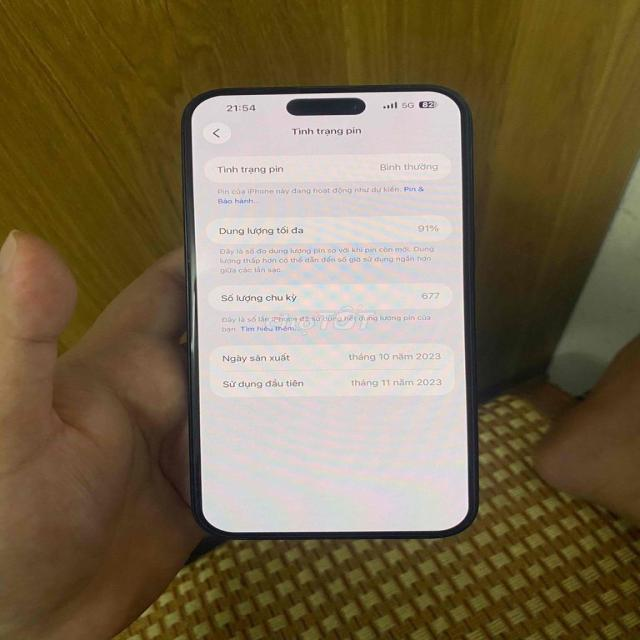gen_15: (170, 68, 472, 569)
